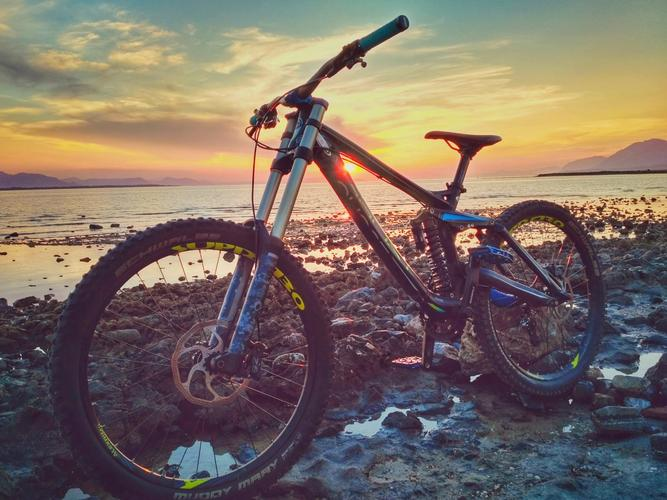单车: (54, 3, 639, 500)
